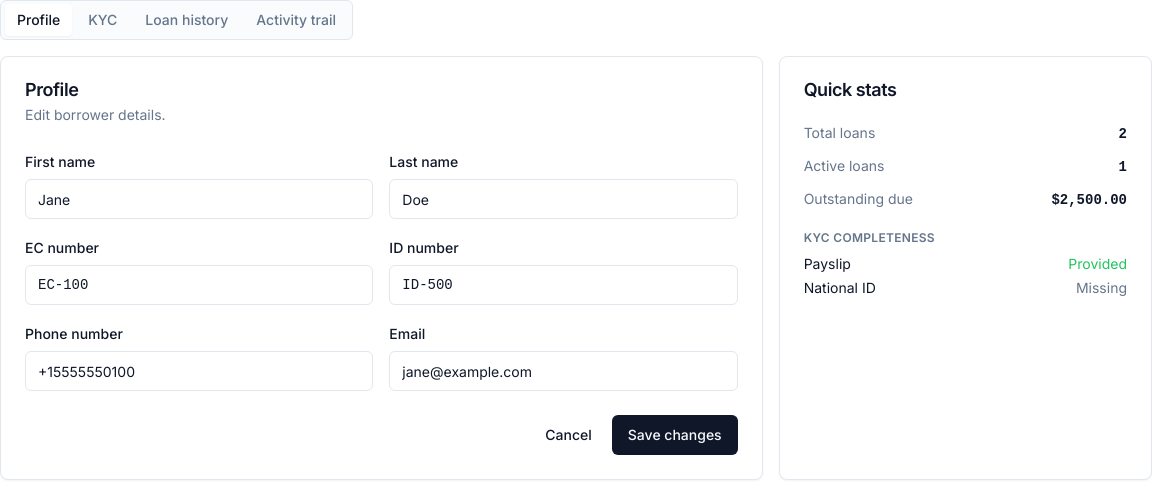
Test case: BorrowerTabs › opens the Activity trail tab and renders a summary
Click the tab "Activity trail". click: (296, 20)
box: [244,4,348,36]
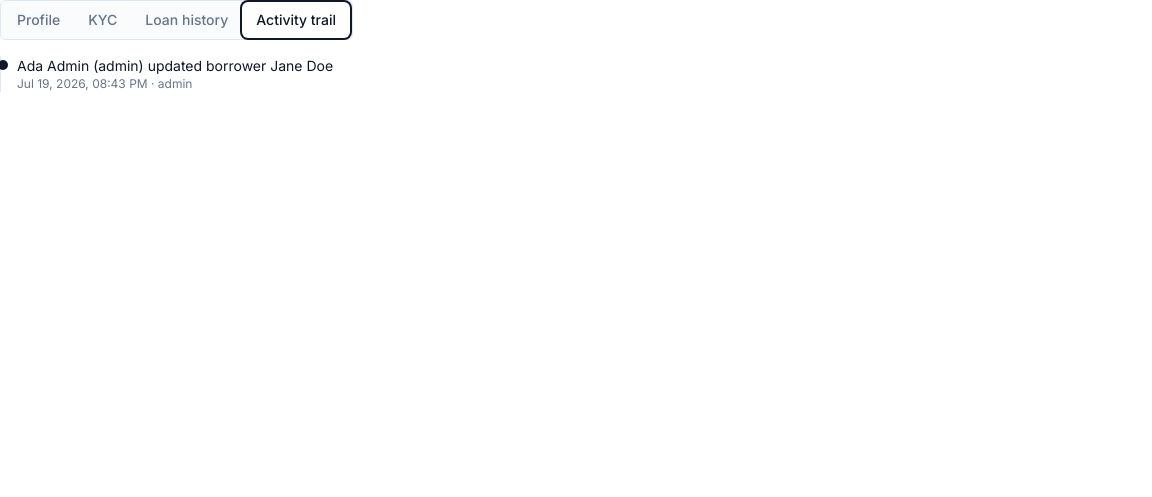
Expected: the text "Ada Admin (admin) updated borrower Jane Doe" is shown, [17,57,333,74]
